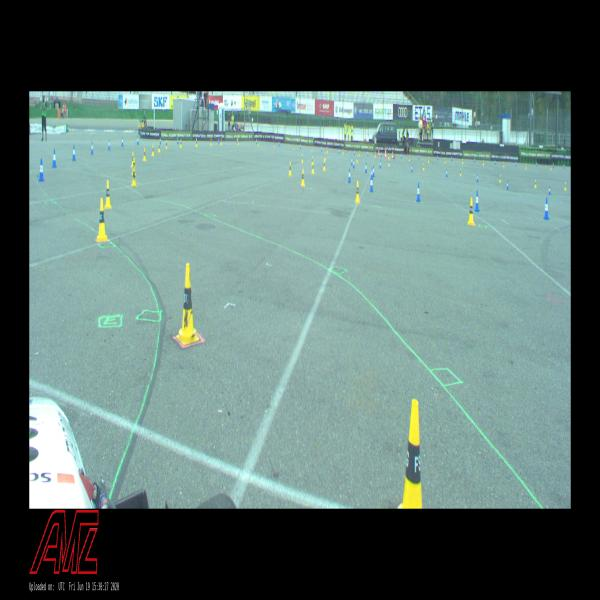blue_cone: (38, 158, 44, 180), (544, 198, 550, 219), (475, 190, 480, 212), (52, 149, 56, 168), (416, 183, 420, 202), (72, 146, 76, 160), (90, 141, 94, 154), (370, 176, 373, 191), (348, 168, 351, 182), (121, 136, 124, 147), (372, 166, 375, 176), (548, 186, 551, 195), (108, 139, 110, 150), (365, 162, 367, 173), (371, 168, 373, 179), (353, 158, 355, 168), (137, 136, 139, 144), (351, 157, 353, 165), (177, 136, 179, 144), (218, 136, 220, 144), (411, 164, 413, 172), (446, 169, 448, 176), (507, 180, 508, 190), (477, 174, 478, 182), (380, 160, 381, 168)
large_orange_cone: (378, 148, 380, 157), (385, 150, 387, 158), (392, 150, 393, 159)
yellow_cone: (397, 400, 423, 508), (176, 263, 200, 344), (96, 198, 108, 241), (104, 180, 112, 208), (468, 198, 474, 225), (355, 180, 360, 202), (132, 166, 136, 186), (301, 168, 305, 186), (132, 158, 136, 175), (131, 151, 134, 167), (289, 161, 291, 176), (144, 148, 146, 160), (152, 144, 154, 156), (312, 162, 314, 173), (324, 159, 326, 170), (166, 140, 168, 150), (158, 142, 160, 152), (311, 156, 313, 166), (324, 152, 326, 160), (564, 182, 566, 190), (356, 154, 358, 162), (210, 138, 212, 146), (180, 139, 182, 147), (220, 137, 222, 145), (499, 175, 501, 182), (388, 159, 390, 166), (196, 138, 197, 147), (535, 180, 536, 188), (302, 154, 303, 162), (460, 168, 461, 176), (423, 163, 424, 170)
